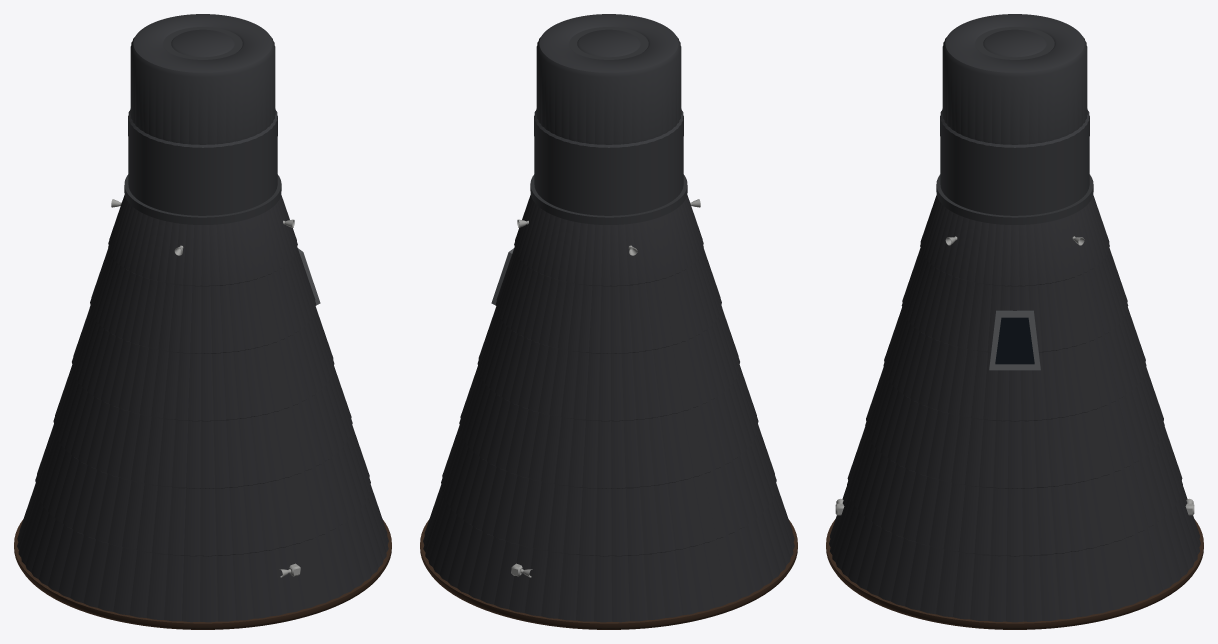
The picture shows the model from 3 angles, left to right: view 1: azimuth 30°, elevation 25°; view 2: azimuth 150°, elevation 25°; view 3: azimuth 270°, elevation 25°; orthographic projection.
Parts seen in each view (by area): view 1: C1_ConicalSection, C1_RecoverySection, C1_HeatShield; view 2: C1_ConicalSection, C1_RecoverySection, C1_HeatShield; view 3: C1_ConicalSection, C1_RecoverySection, C1_HeatShield, C1_Window.
Boxes of the visible parts, left/top/right/bottom form: C1_ConicalSection: left=17, top=195, right=388, bottom=622; C1_RecoverySection: left=124, top=14, right=281, bottom=224; C1_HeatShield: left=14, top=519, right=391, bottom=629; C1_ConicalSection: left=423, top=195, right=794, bottom=622; C1_RecoverySection: left=530, top=14, right=687, bottom=224; C1_HeatShield: left=420, top=519, right=797, bottom=629; C1_ConicalSection: left=829, top=195, right=1200, bottom=622; C1_RecoverySection: left=936, top=14, right=1093, bottom=224; C1_HeatShield: left=826, top=519, right=1203, bottom=629; C1_Window: left=989, top=310, right=1040, bottom=370.
Size of the model in its own units: 1.9 by 2.9 by 1.9.
